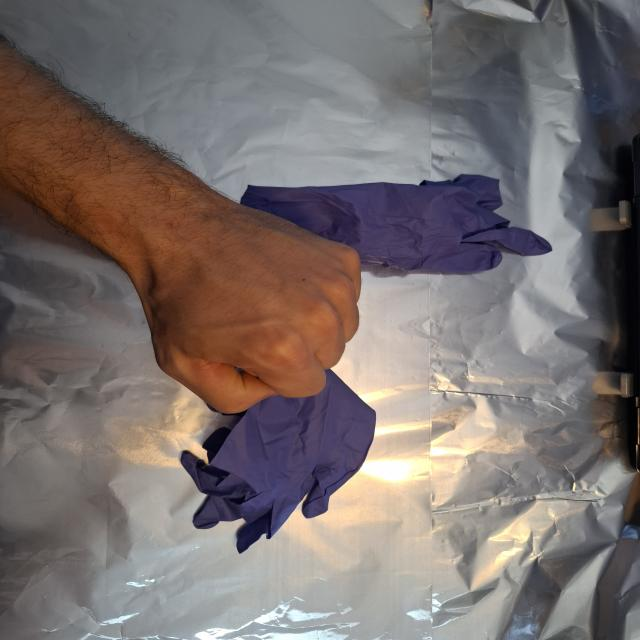glove_off: (134, 212, 365, 416)
